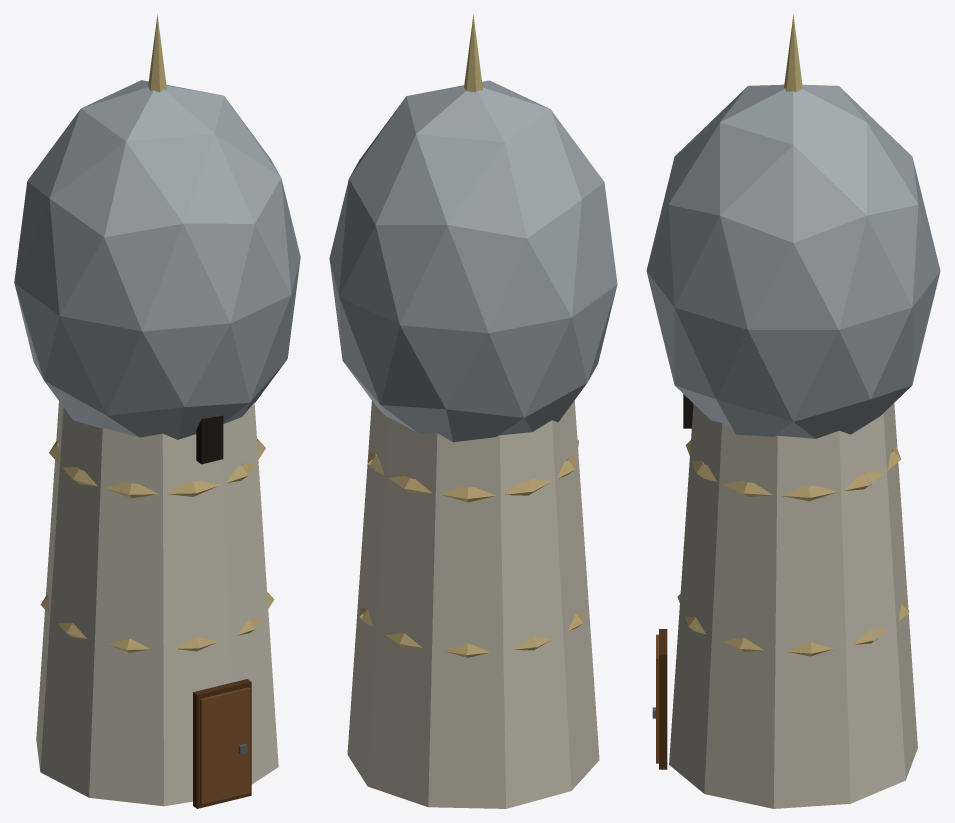
The model's file is elf_house_b.glb.
The picture shows the model from 3 angles, left to right: view 1: azimuth 30°, elevation 25°; view 2: azimuth 150°, elevation 25°; view 3: azimuth 270°, elevation 25°; orthographic projection.
Visible parts, largest first — view 1: elf_house_b; view 2: elf_house_b; view 3: elf_house_b.
Part boxes in pixels (left/top/right/bottom): elf_house_b: left=14, top=14, right=300, bottom=808; elf_house_b: left=329, top=14, right=617, bottom=808; elf_house_b: left=646, top=14, right=940, bottom=808.
Bounding box in the file's own units: 1.33 × 3.9 × 1.4.
